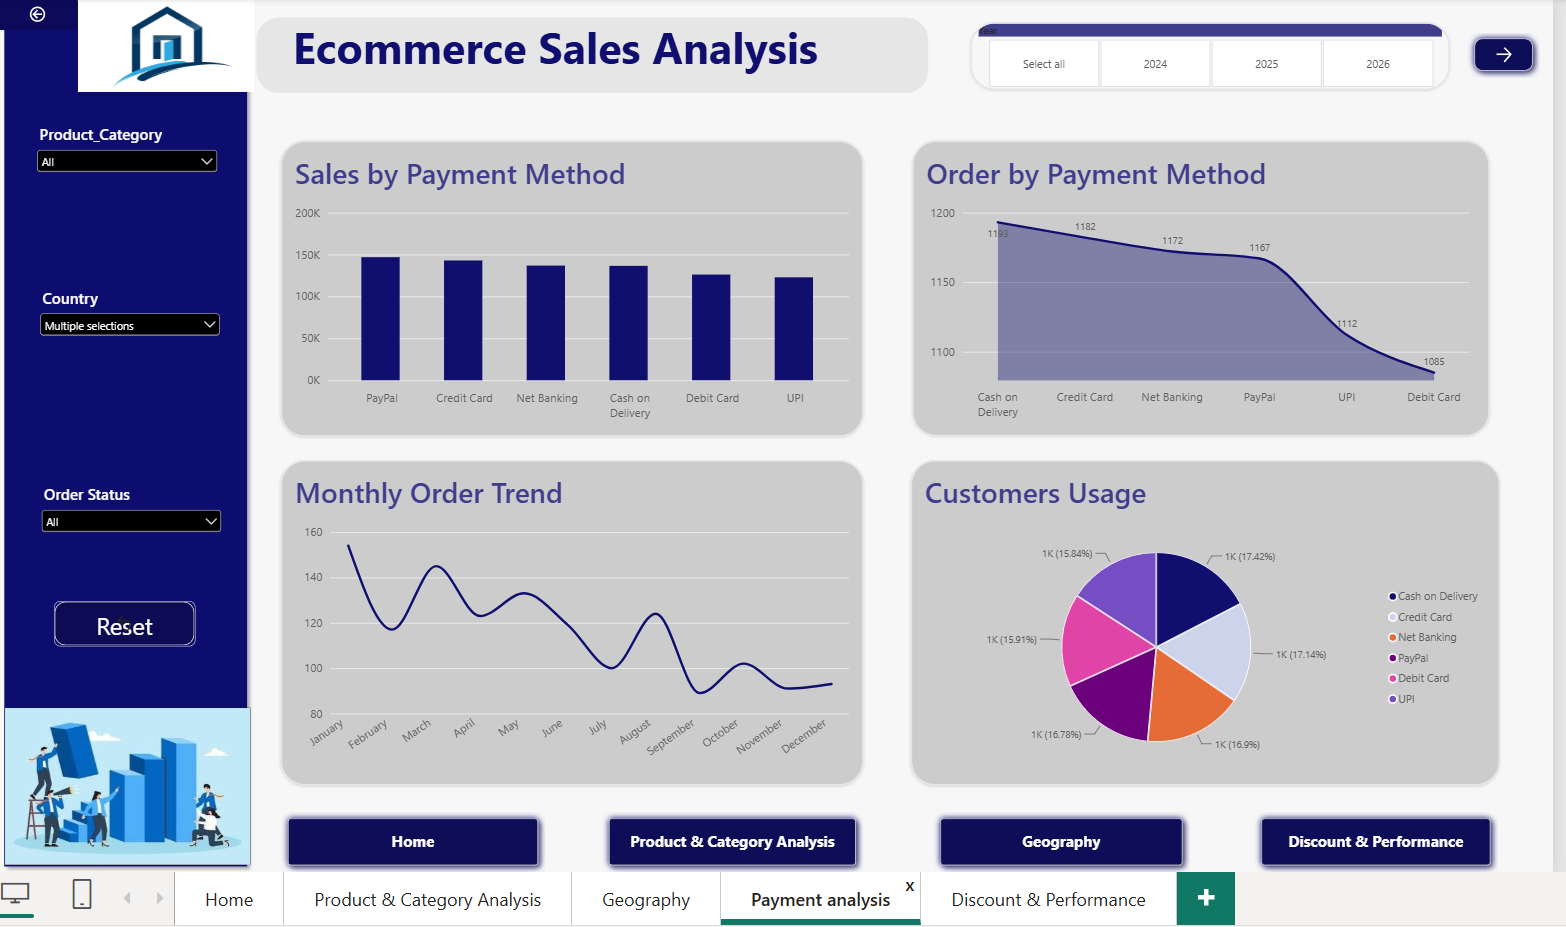

Layout of this report page (visuals, bound fields, positions):
{"tool":"powerbi","page":{"name":"Payment analysis","canvas":[1920,1080],"ordinal":3},"visuals":[{"type":"textbox","box":[320.3,25,829,93.1],"z":0},{"type":"columnChart","title":"Sales by Payment Method","fields":{"Y":["Sales_details.Total_sales"],"Category":["Sales_details.Payment_Method"]},"box":[350,176,720,366],"z":1000},{"type":"shape","box":[0,2.9,317.8,1077.5],"z":2000},{"type":"slicer","title":"Total Sales","fields":{"Values":["Sales_details.Order_Date.Variation.Date Hierarchy.Year"]},"box":[1202.2,30.1,592.1,84.3],"z":3000},{"type":"slicer","fields":{"Values":["product_details.Product_Category"]},"box":[45,156.3,232.1,142.1],"z":4000},{"type":"slicer","fields":{"Values":["Location_details.Country"]},"box":[47.4,357.6,231.7,168.3],"z":5000},{"type":"areaChart","title":"Order by Payment Method","fields":{"Y":["Sales_details.Total Orders"],"Category":["Sales_details.Payment_Method"]},"box":[1128.8,176.1,713.6,365.2],"z":6000},{"type":"slicer","fields":{"Values":["Sales_details.Order_Status_Consistency"]},"box":[49.7,599.2,231.7,138.3],"z":7000},{"type":"lineChart","title":"Monthly Order Trend","fields":{"Y":["Sales_details.Total Orders"],"Category":["Sales_details.Order_Date.Variation.Date Hierarchy.Month"]},"box":[350,570,720,402],"z":8000},{"type":"pieChart","title":"Customers Usage","fields":{"Y":["Sales_details.Total Customers"],"Category":["Sales_details.Payment_Method"]},"box":[1128,570,728,402],"z":9000},{"type":"actionButton","box":[0,0,100,40],"z":10000},{"type":"actionButton","box":[1814.3,40.1,90.3,58.2],"z":11000},{"type":"actionButton","title":"Product & Category Analysis","box":[746.6,1003.5,323.1,76.3],"z":12000},{"type":"actionButton","title":"Product & Category Analysis","box":[349.2,1003.5,327.1,76.3],"z":13000},{"type":"actionButton","title":"Product & Category Analysis","box":[1156,1003.5,317.1,76.3],"z":14000},{"type":"actionButton","title":"Product & Category Analysis","box":[1551.4,1003.5,301,76.3],"z":15000},{"type":"image","box":[99.5,0,217.9,116.1],"z":16000},{"type":"actionButton","title":"Reset","box":[71.1,743.7,174.6,56.2],"z":17000},{"type":"image","box":[9.3,876.7,304,194.6],"z":18000}]}

Visuals, with their boxes on the page's 1920x1080 design canvas (x1, y1, x2, y2). These are canvas units, not pixel positions in the 1566x927 screenshot, which may show the page scaled, cropped or inside an application window:
textbox: bbox=[320, 25, 1149, 118]
"Sales by Payment Method" columnChart: bbox=[350, 176, 1070, 542]
shape: bbox=[0, 3, 318, 1080]
"Total Sales" slicer: bbox=[1202, 30, 1794, 114]
slicer - product_details.Product_Category: bbox=[45, 156, 277, 298]
slicer - Location_details.Country: bbox=[47, 358, 279, 526]
"Order by Payment Method" areaChart: bbox=[1129, 176, 1842, 541]
slicer - Sales_details.Order_Status_Consistency: bbox=[50, 599, 281, 738]
"Monthly Order Trend" lineChart: bbox=[350, 570, 1070, 972]
"Customers Usage" pieChart: bbox=[1128, 570, 1856, 972]
actionButton: bbox=[0, 0, 100, 40]
actionButton: bbox=[1814, 40, 1905, 98]
"Product & Category Analysis" actionButton: bbox=[747, 1004, 1070, 1080]
"Product & Category Analysis" actionButton: bbox=[349, 1004, 676, 1080]
"Product & Category Analysis" actionButton: bbox=[1156, 1004, 1473, 1080]
"Product & Category Analysis" actionButton: bbox=[1551, 1004, 1852, 1080]
image: bbox=[100, 0, 317, 116]
"Reset" actionButton: bbox=[71, 744, 246, 800]
image: bbox=[9, 877, 313, 1071]
